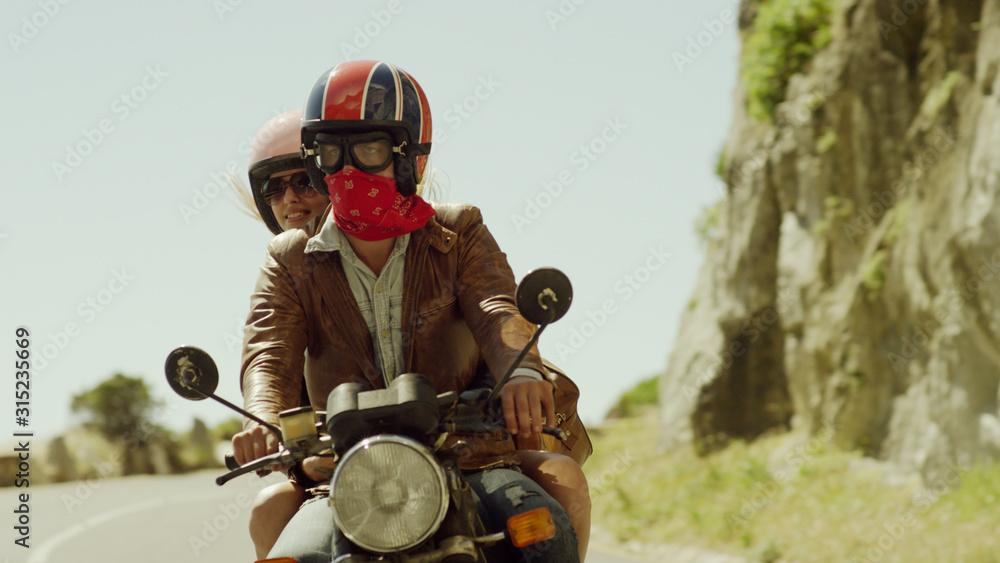helmet: (299, 58, 438, 242), (247, 105, 355, 254)
